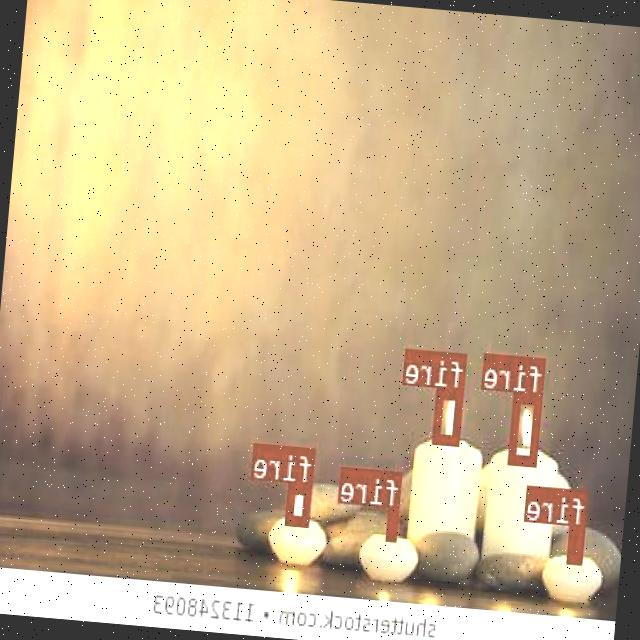fire: (508, 391, 544, 465), (433, 386, 465, 444), (288, 482, 314, 524), (568, 524, 586, 562), (387, 506, 400, 538)
